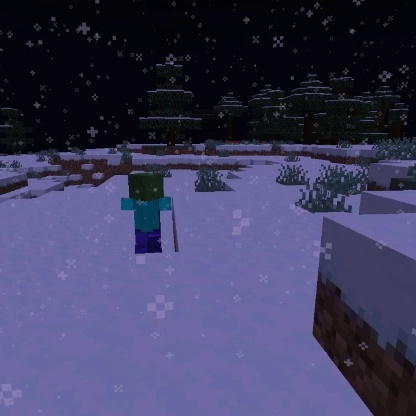zombie: (117, 169, 174, 255)
